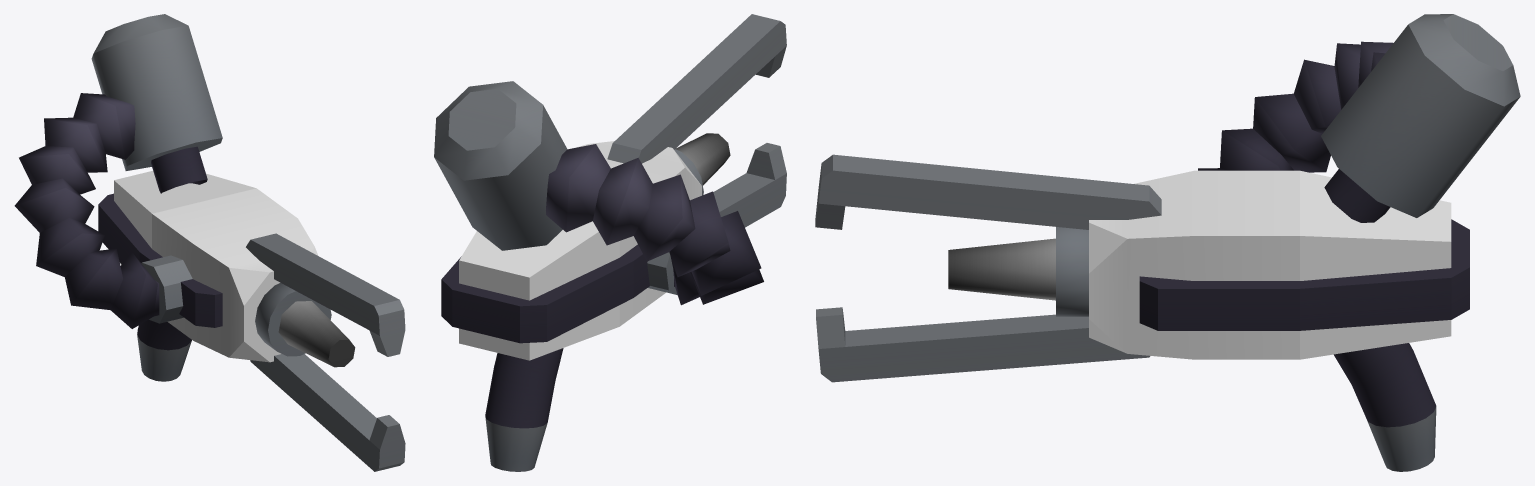
File: repairtool.fbx
3 views of the same model, side by side, from view 1: azimuth 30°, elevation 25°; view 2: azimuth 150°, elevation 25°; view 3: azimuth 270°, elevation 25° (orthographic). The views are drawn at different scales.
Visible parts, largest first — view 1: repairtool; view 2: repairtool; view 3: repairtool.
Boxes of the visible parts, box(x1,y1,x2,y2) form: repairtool: box(14, 14, 405, 471); repairtool: box(434, 14, 786, 471); repairtool: box(815, 14, 1520, 471).
Size of the model in its own units: 99.73 by 139 by 200.
